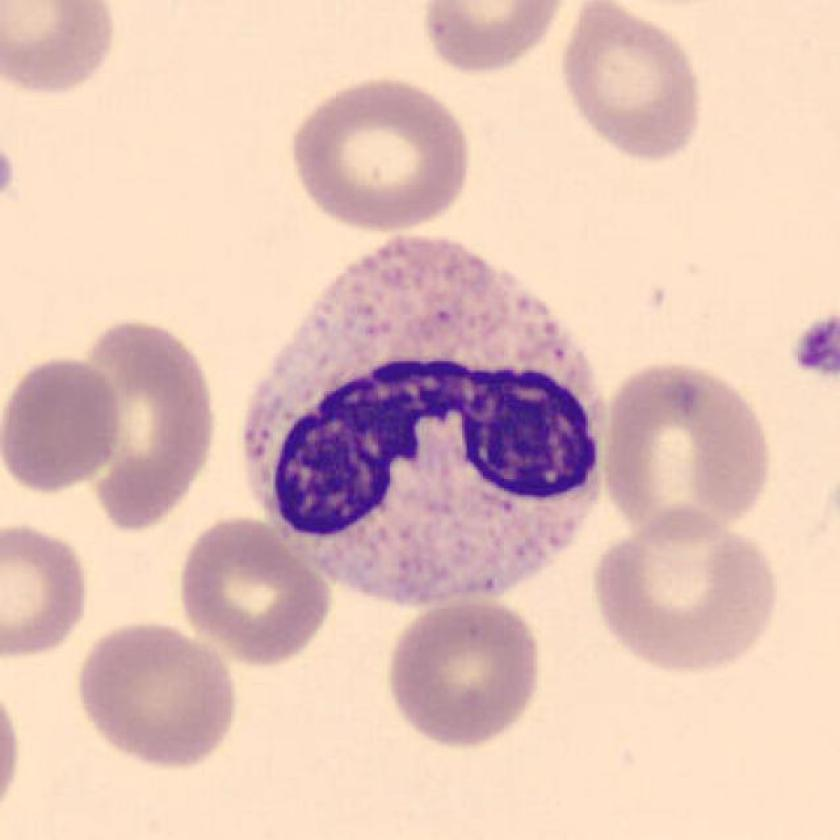neutrophil: (243, 235, 605, 606)
